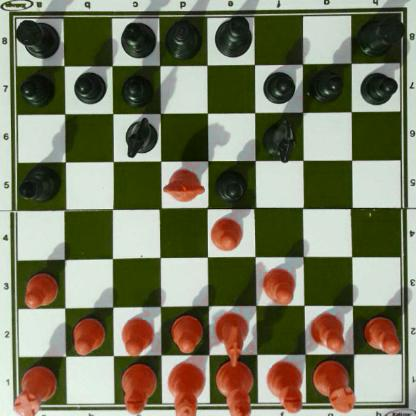black-bishop: (16, 165, 61, 201), (118, 21, 158, 58)
black-king: (213, 12, 252, 58)
black-knight: (262, 115, 295, 160), (123, 115, 156, 154)
black-pawn: (360, 69, 396, 105), (215, 166, 249, 202), (262, 67, 295, 102), (20, 72, 54, 104), (311, 67, 342, 101), (73, 70, 104, 104), (122, 71, 152, 105)
black-queen: (164, 16, 202, 60)
black-rook: (358, 10, 402, 55), (12, 16, 59, 58)
white-bishop: (121, 364, 157, 416), (266, 361, 303, 411)
white-king: (214, 359, 254, 416)
white-knight: (214, 310, 251, 367), (161, 168, 202, 202)
white-pawn: (309, 310, 346, 350), (363, 314, 400, 351), (260, 265, 295, 304), (21, 271, 58, 307), (119, 314, 152, 354), (70, 315, 104, 353), (169, 313, 202, 351), (209, 216, 242, 250)
white-queen: (166, 361, 206, 416)
white-rook: (15, 360, 55, 415), (315, 357, 353, 413)
